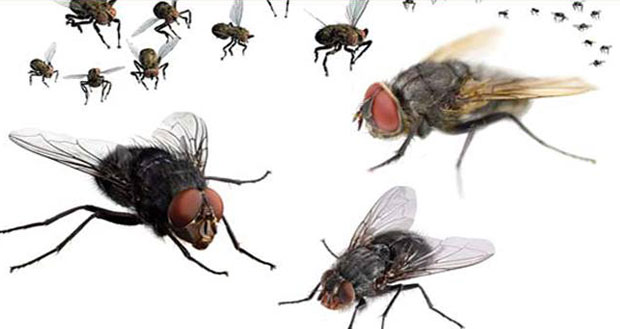fly: (1, 110, 284, 280), (346, 25, 600, 182), (277, 182, 499, 329)
